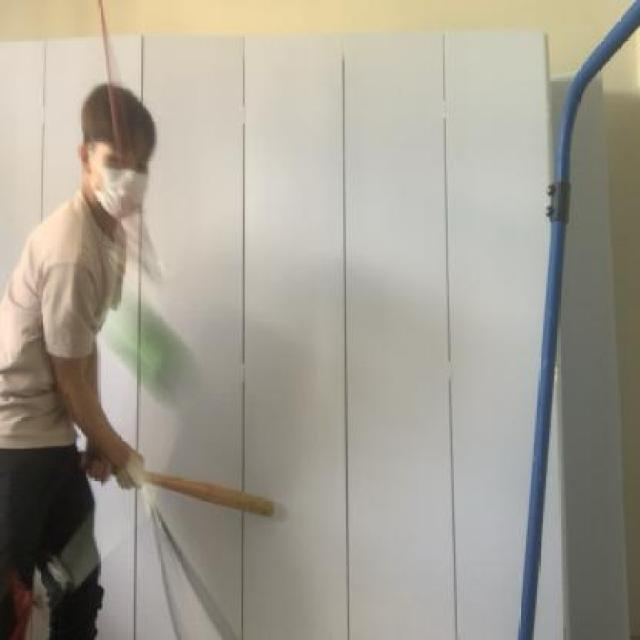baseball: (70, 270, 204, 410)
